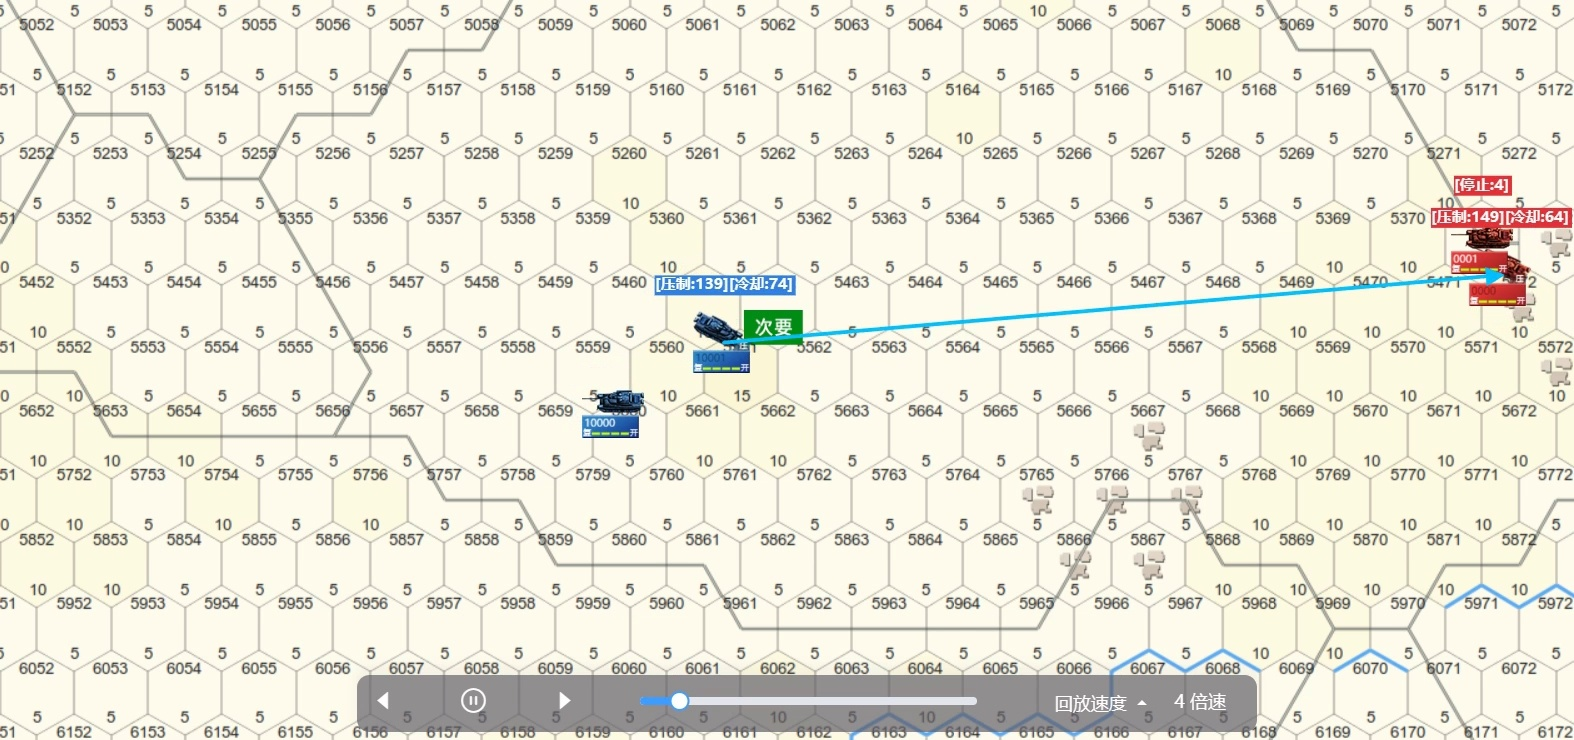blue_tank: (697, 314, 758, 382), (584, 388, 647, 444)
red_tank: (1466, 262, 1536, 319), (1468, 221, 1522, 268)
